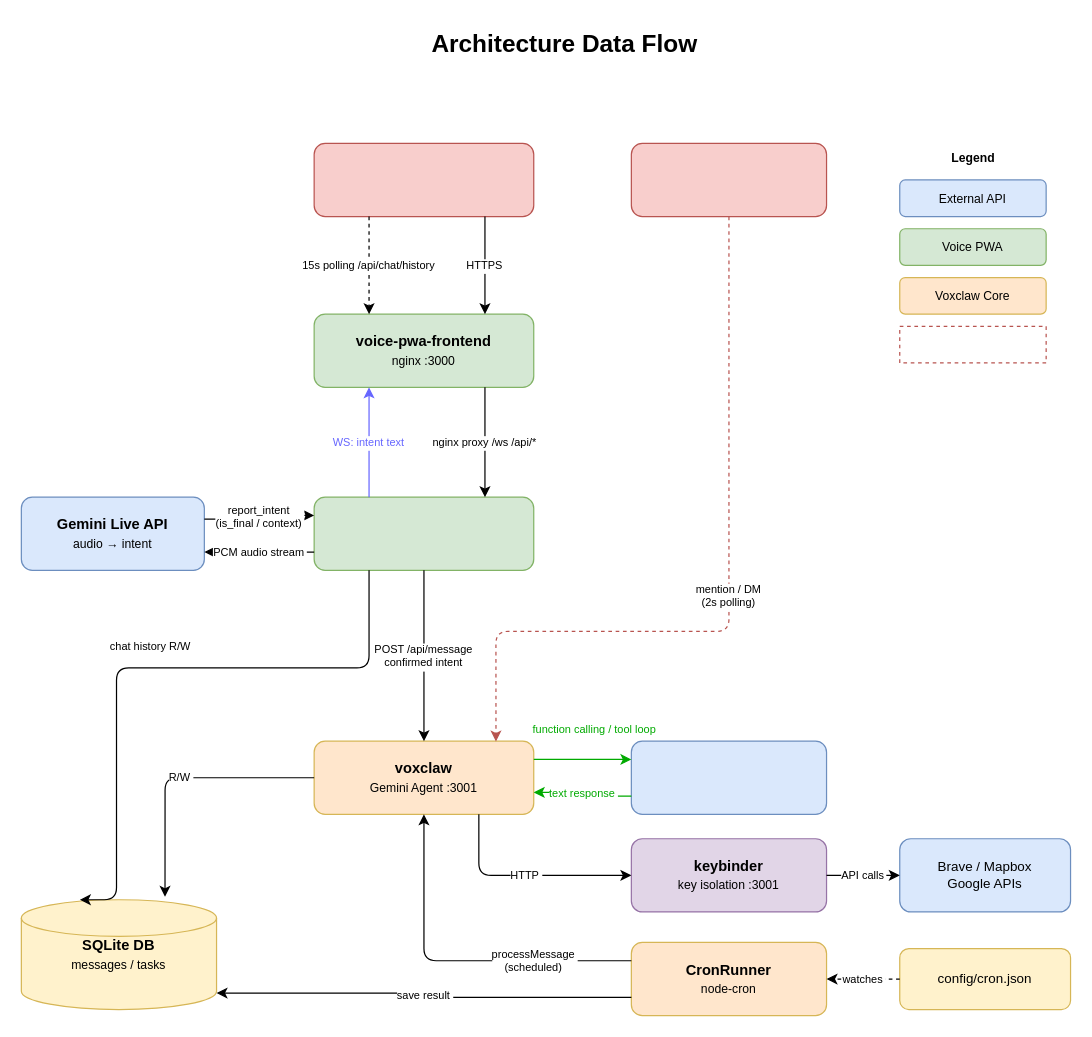
This 1092x1037 diagram has some shape labels left out. The shapes that lost their labels are listed below. From the top down, each one's centre as x and y in pixels, then its label:
(423,179): Browser / Phone (PWA)
(728,179): Discord optional
(972,344): Optional path
(423,533): voice-pwa-backend Node.js / WebSocket :8080
(728,777): Gemini Text API text inference
